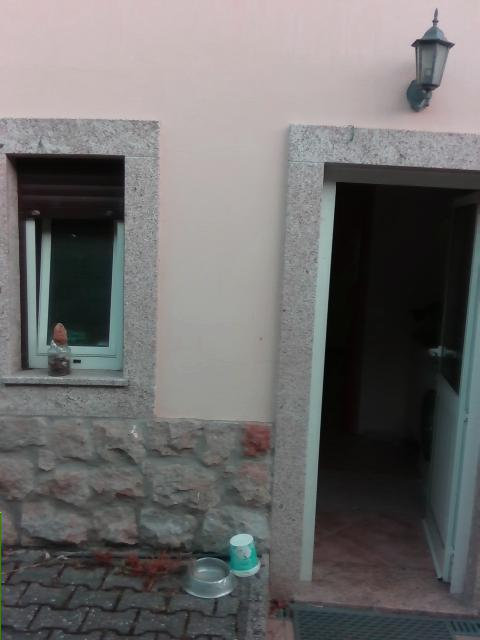open_door: (300, 161, 479, 597)
